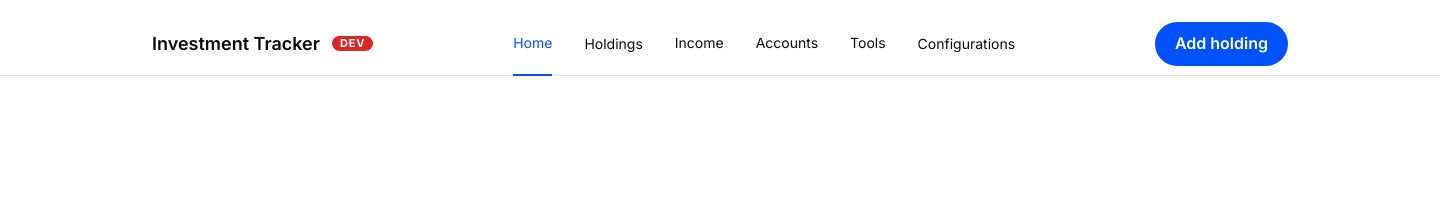
TopNav responsive behavior › renders holdings submenu from API with Bond and BRFI links
Hover over the list item "Holdings": (614, 44) [584,12,643,76]
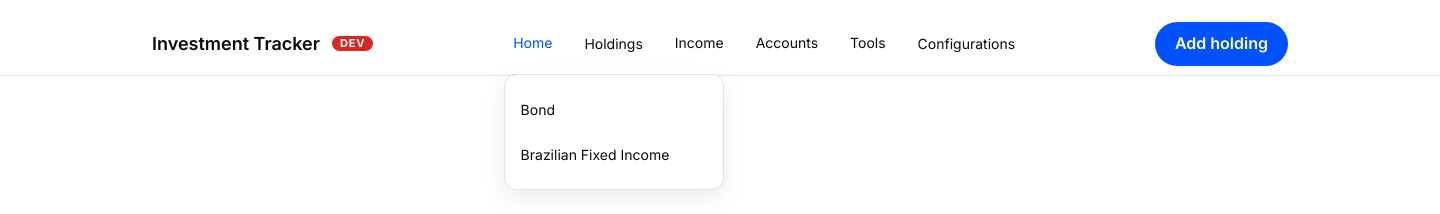
Now the menu with id "holdings-submenu" is shown, box [504,74,724,190]
Now the menu item to "/holdings" reads "Bond", box [521,100,555,118]
Now the menu item to "/holdings/brazilian-fixed-income" reads "Brazilian Fixed Income", box [521,146,669,162]
